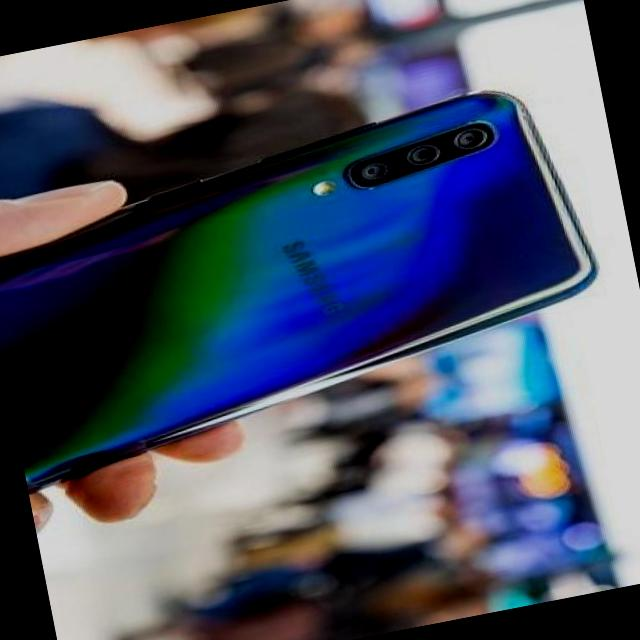lens_back: (449, 120, 496, 155), (398, 140, 443, 174), (352, 154, 393, 190)
phone: (0, 72, 624, 496)
